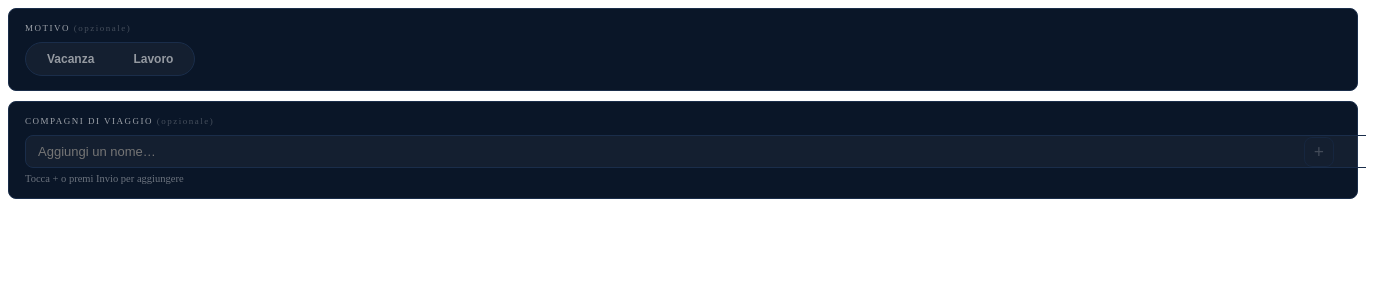
Test: TripPurposeCompanions — suggerimenti da tastiera › Escape chiude la lista; riprendere a digitare la riapre
This screenshot has width=1378, height=284.
In the dropdown with placeholder "Aggiungi un nome…": (696, 152) [25, 135, 1366, 168], type "giu"
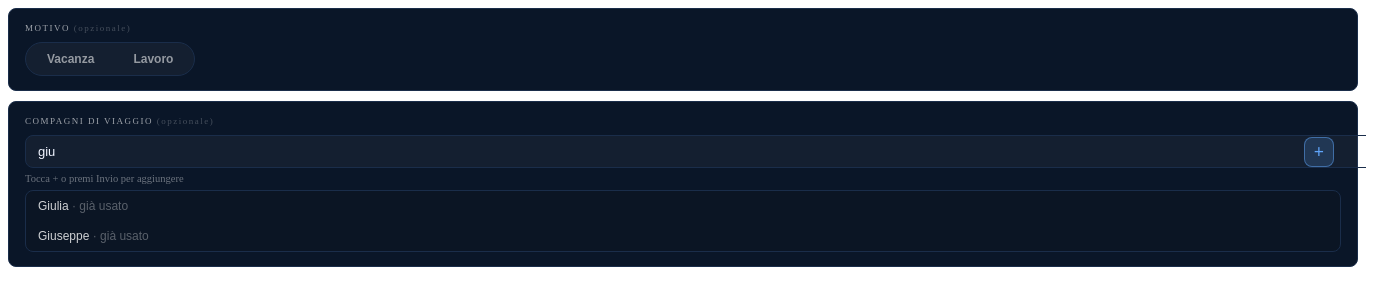
Press Escape in the dropdown with placeholder "Aggiungi un nome…", box [25, 135, 1366, 168]
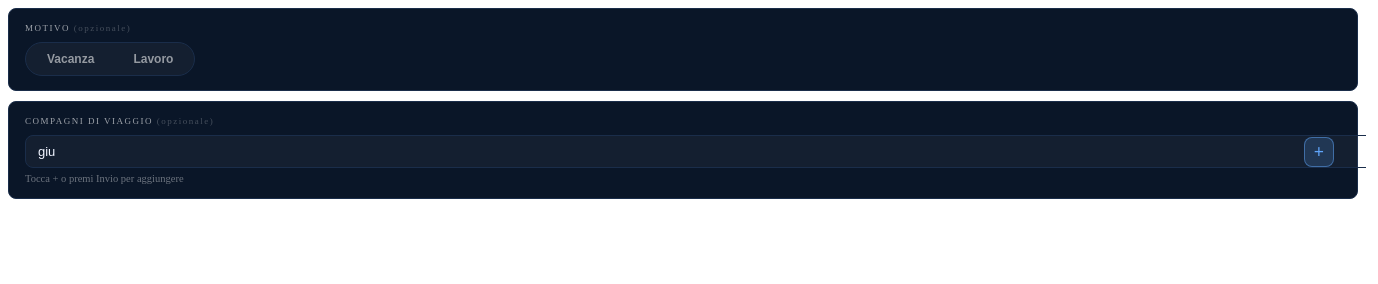
Check: no options are shown
Replace the text in the dropdown with placeholder "Aggiungi un nome…" with "giul": (696, 152) [25, 135, 1366, 168]
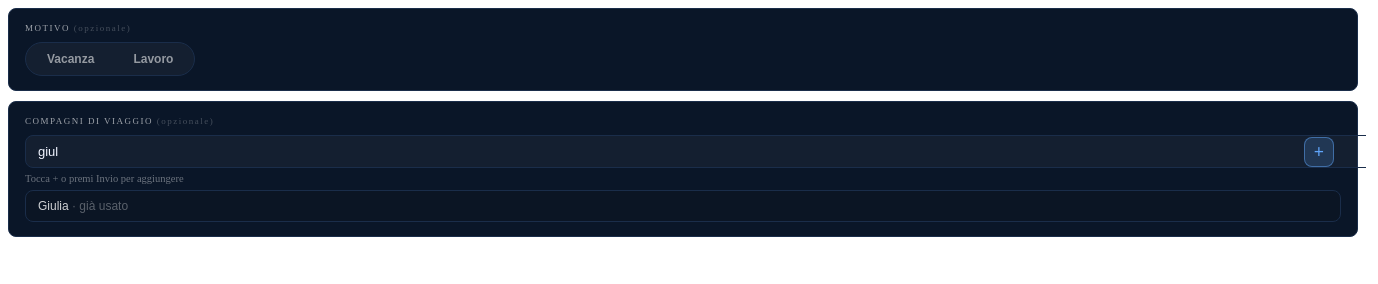
Check: the number of options is 1, box [26, 191, 1340, 221]
